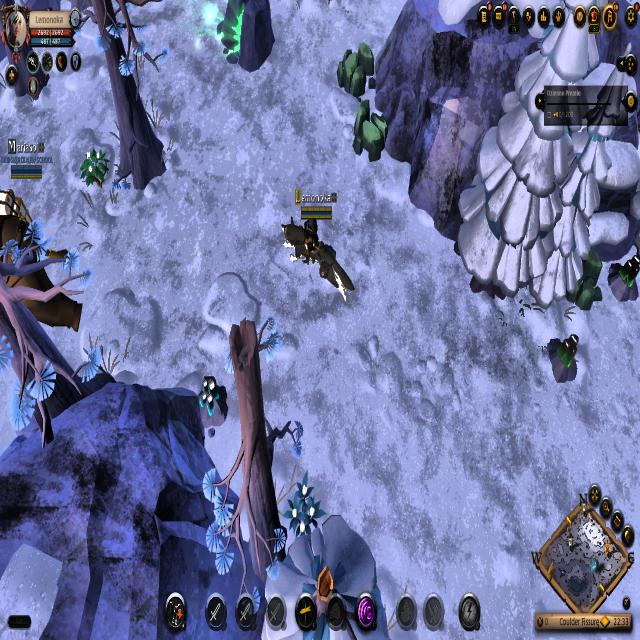fiber tier 3: (78, 146, 110, 194)
fiber tier 4: (282, 472, 328, 544)
ore tier 3: (546, 329, 580, 386), (607, 253, 640, 308)
ore tier 4: (195, 372, 229, 432)
rock tier 3: (334, 41, 378, 106), (350, 98, 391, 165)
